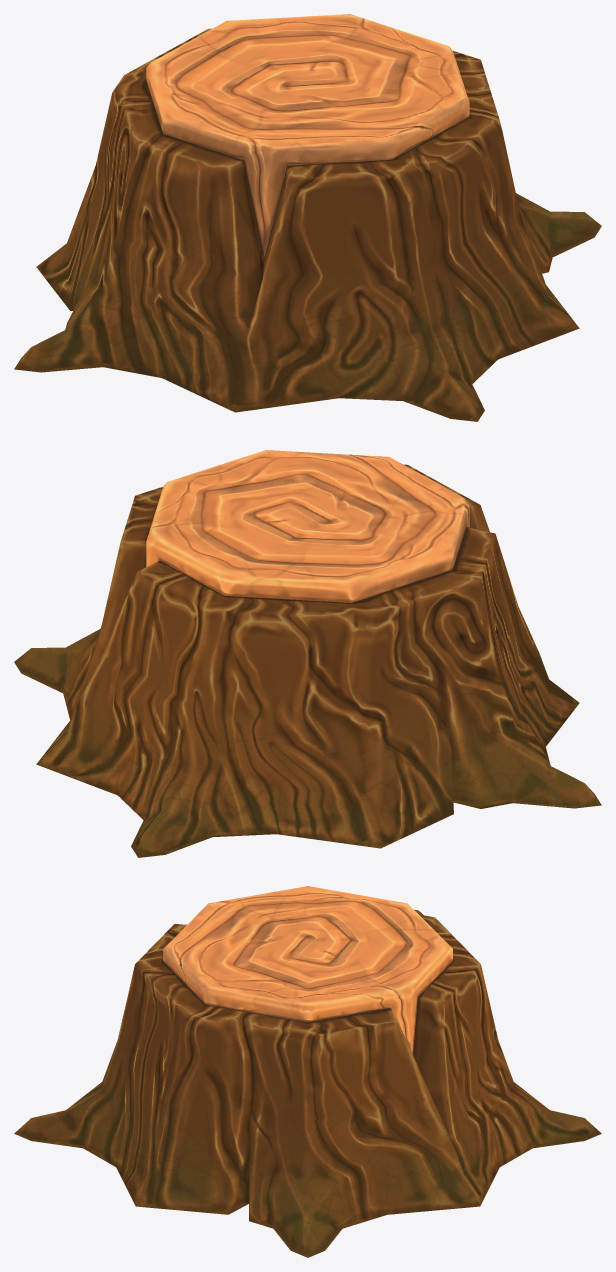
The model's file is tree_stump.glb.
3 views of the same model, one above another, from view 1: azimuth 30°, elevation 25°; view 2: azimuth 150°, elevation 25°; view 3: azimuth 270°, elevation 25° (orthographic). The views are drawn at different scales.
Parts seen in each view (by area): view 1: TreeStump_low; view 2: TreeStump_low; view 3: TreeStump_low.
Part boxes in pixels (bbox=[...]): TreeStump_low: bbox=[14, 14, 601, 421]; TreeStump_low: bbox=[14, 450, 601, 857]; TreeStump_low: bbox=[14, 886, 601, 1257].
Size of the model in its own units: 3.4 by 1.2 by 3.4.
1 material, 1 textured.
